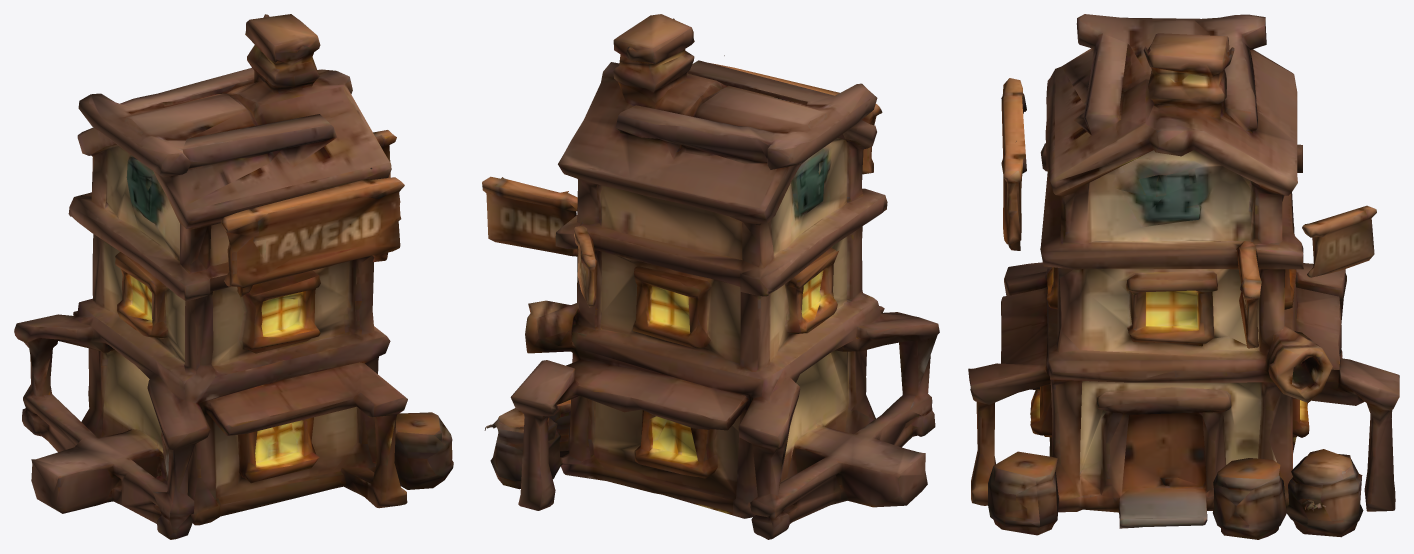
File: inn.glb
The picture shows the model from 3 angles, left to right: view 1: azimuth 30°, elevation 25°; view 2: azimuth 150°, elevation 25°; view 3: azimuth 270°, elevation 25°; orthographic projection. The views are drawn at different scales.
Parts seen in each view (by area): view 1: tripo_node_29593c82; view 2: tripo_node_29593c82; view 3: tripo_node_29593c82.
Part boxes in pixels (<box>): tripo_node_29593c82: <box>14,14,453,539</box>; tripo_node_29593c82: <box>482,14,939,539</box>; tripo_node_29593c82: <box>968,14,1399,539</box>.
Bounding box in the file's own units: 97.98 × 99.24 × 86.18.
Materials: 1 (1 with a texture image).
